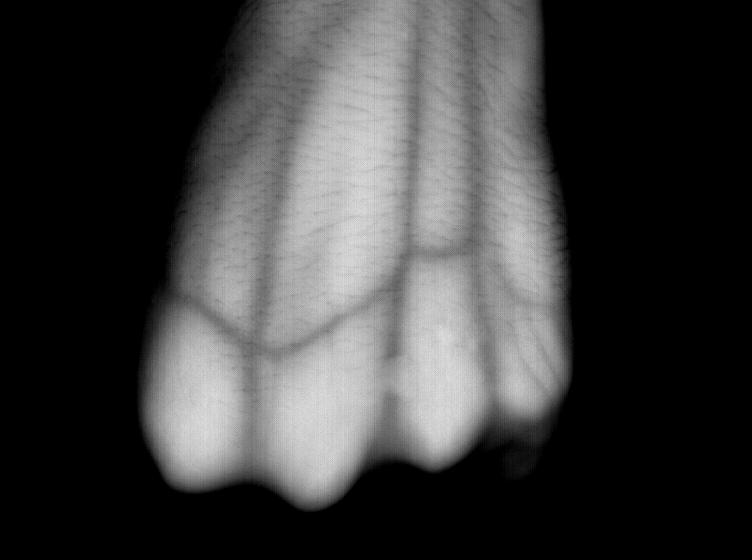Vein: (236, 31, 492, 358)
